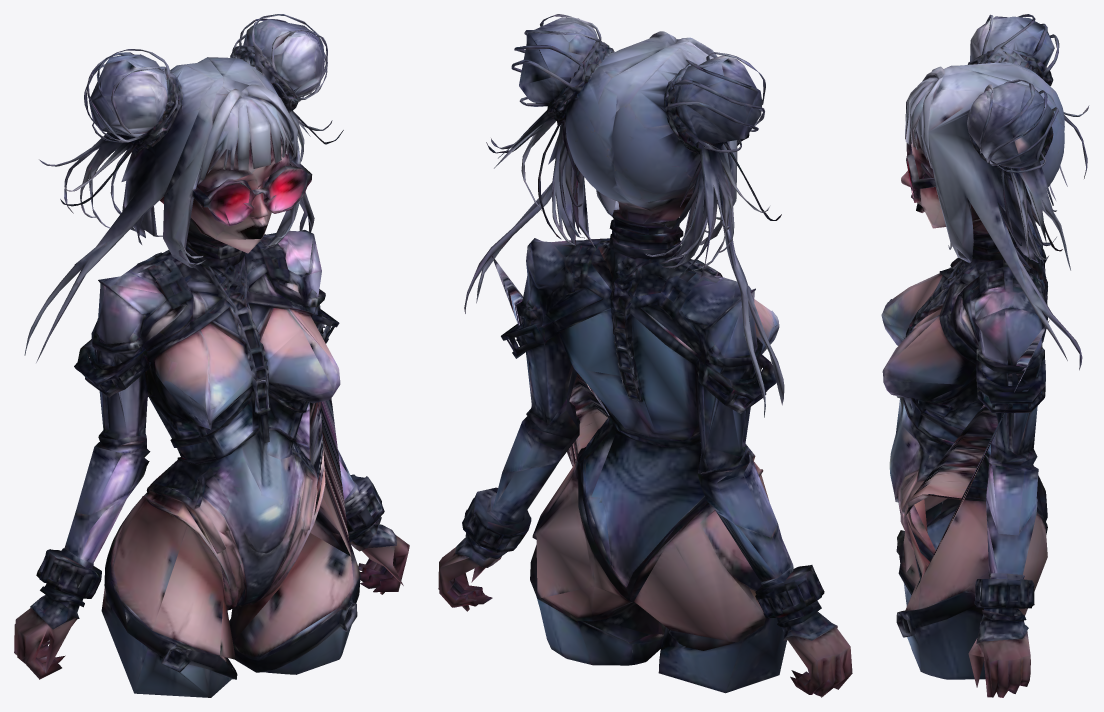
3 renders of one model, left to right at view 1: azimuth 30°, elevation 25°; view 2: azimuth 150°, elevation 25°; view 3: azimuth 270°, elevation 25°, orthographic. The views are drawn at different scales.
Visible parts, largest first — view 1: material; view 2: material; view 3: material.
Boxes of the visible parts, x1,y1,x2,y2 form: material: (14, 14, 409, 697); material: (438, 14, 852, 697); material: (881, 14, 1089, 697).
Bounding box in the file's own units: 0.7094 × 1.07 × 0.3473.
1 material, 1 textured.
